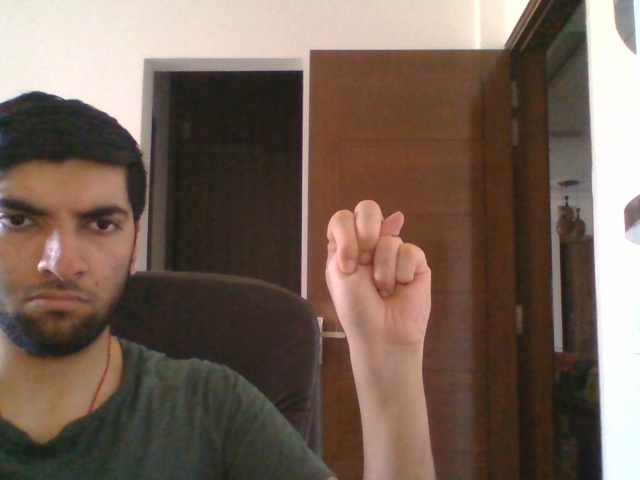LetterN: (324, 198, 433, 352)
